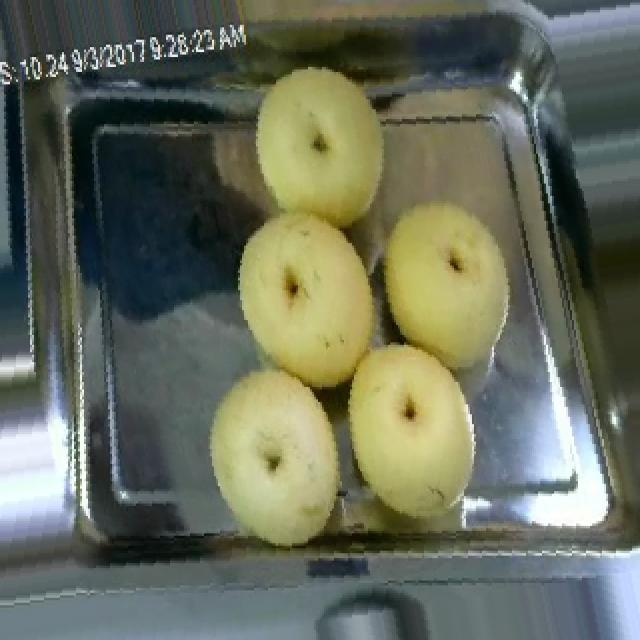Fruit: (356, 181, 534, 385), (332, 322, 502, 534), (226, 203, 400, 407), (238, 49, 406, 250), (200, 360, 354, 556)
